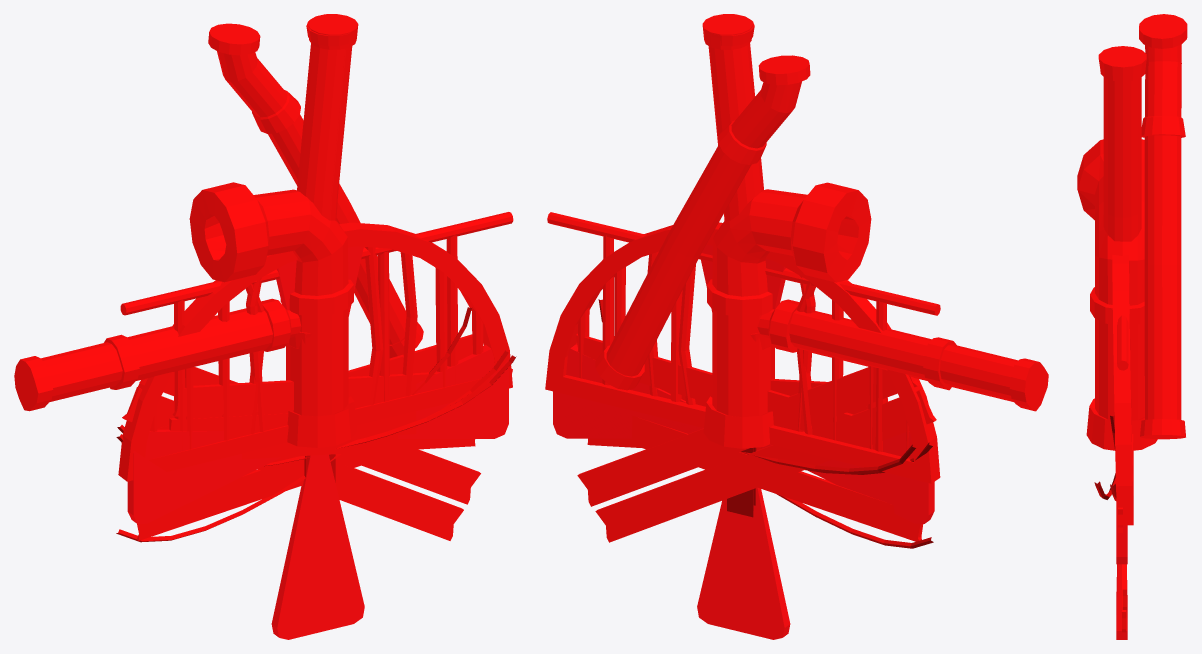
Rendered from fixed_obstacles.glb.
3 renders of one model, left to right at view 1: azimuth 30°, elevation 25°; view 2: azimuth 150°, elevation 25°; view 3: azimuth 270°, elevation 25°, orthographic. The views are drawn at different scales.
Visible parts, largest first — view 1: propeller, pipe2, grid, wood3, pipe3, wood4, pipe4, grid2, pipe5, cable2, pipe; view 2: pipe2, wood3, grid, pipe3, propeller, wood4, grid2, pipe4, pipe5, pipe, cable2; view 3: pipe3, pipe2, pipe, grid, propeller, grid2, wood3, cable2.
Boxes of the visible parts, <box> form: propeller: <box>127,246,508,639</box>; pipe2: <box>189,182,357,447</box>; grid: <box>118,222,512,481</box>; wood3: <box>122,367,512,540</box>; pipe3: <box>208,21,423,358</box>; wood4: <box>136,334,475,540</box>; pipe4: <box>14,305,300,411</box>; grid2: <box>120,212,513,450</box>; pipe5: <box>104,298,300,389</box>; cable2: <box>116,307,516,542</box>; pipe: <box>305,14,358,337</box>; pipe2: <box>703,182,871,448</box>; wood3: <box>577,367,936,542</box>; grid: <box>545,222,940,483</box>; pipe3: <box>595,21,810,390</box>; propeller: <box>553,245,934,639</box>; wood4: <box>576,333,923,541</box>; grid2: <box>547,212,940,451</box>; pipe4: <box>757,305,1048,411</box>; pipe5: <box>757,299,956,390</box>; pipe: <box>702,14,759,340</box>; cable2: <box>576,299,933,548</box>; pipe3: <box>1098,14,1187,439</box>; pipe2: <box>1077,139,1157,450</box>; pipe: <box>1099,46,1146,241</box>; grid: <box>1112,254,1133,525</box>; propeller: <box>1116,507,1127,639</box>; grid2: <box>1117,315,1128,370</box>; wood3: <box>1118,507,1126,632</box>; cable2: <box>1094,415,1115,499</box>.
Size of the model in its own units: 15.11 by 17.88 by 3.1.
